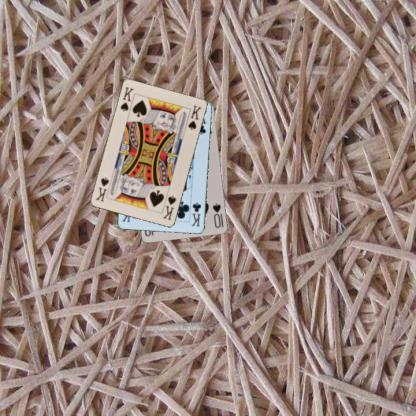10s: (210, 201, 225, 229)
Kc: (189, 200, 202, 228)
Ks: (160, 193, 178, 222), (118, 84, 135, 113)
